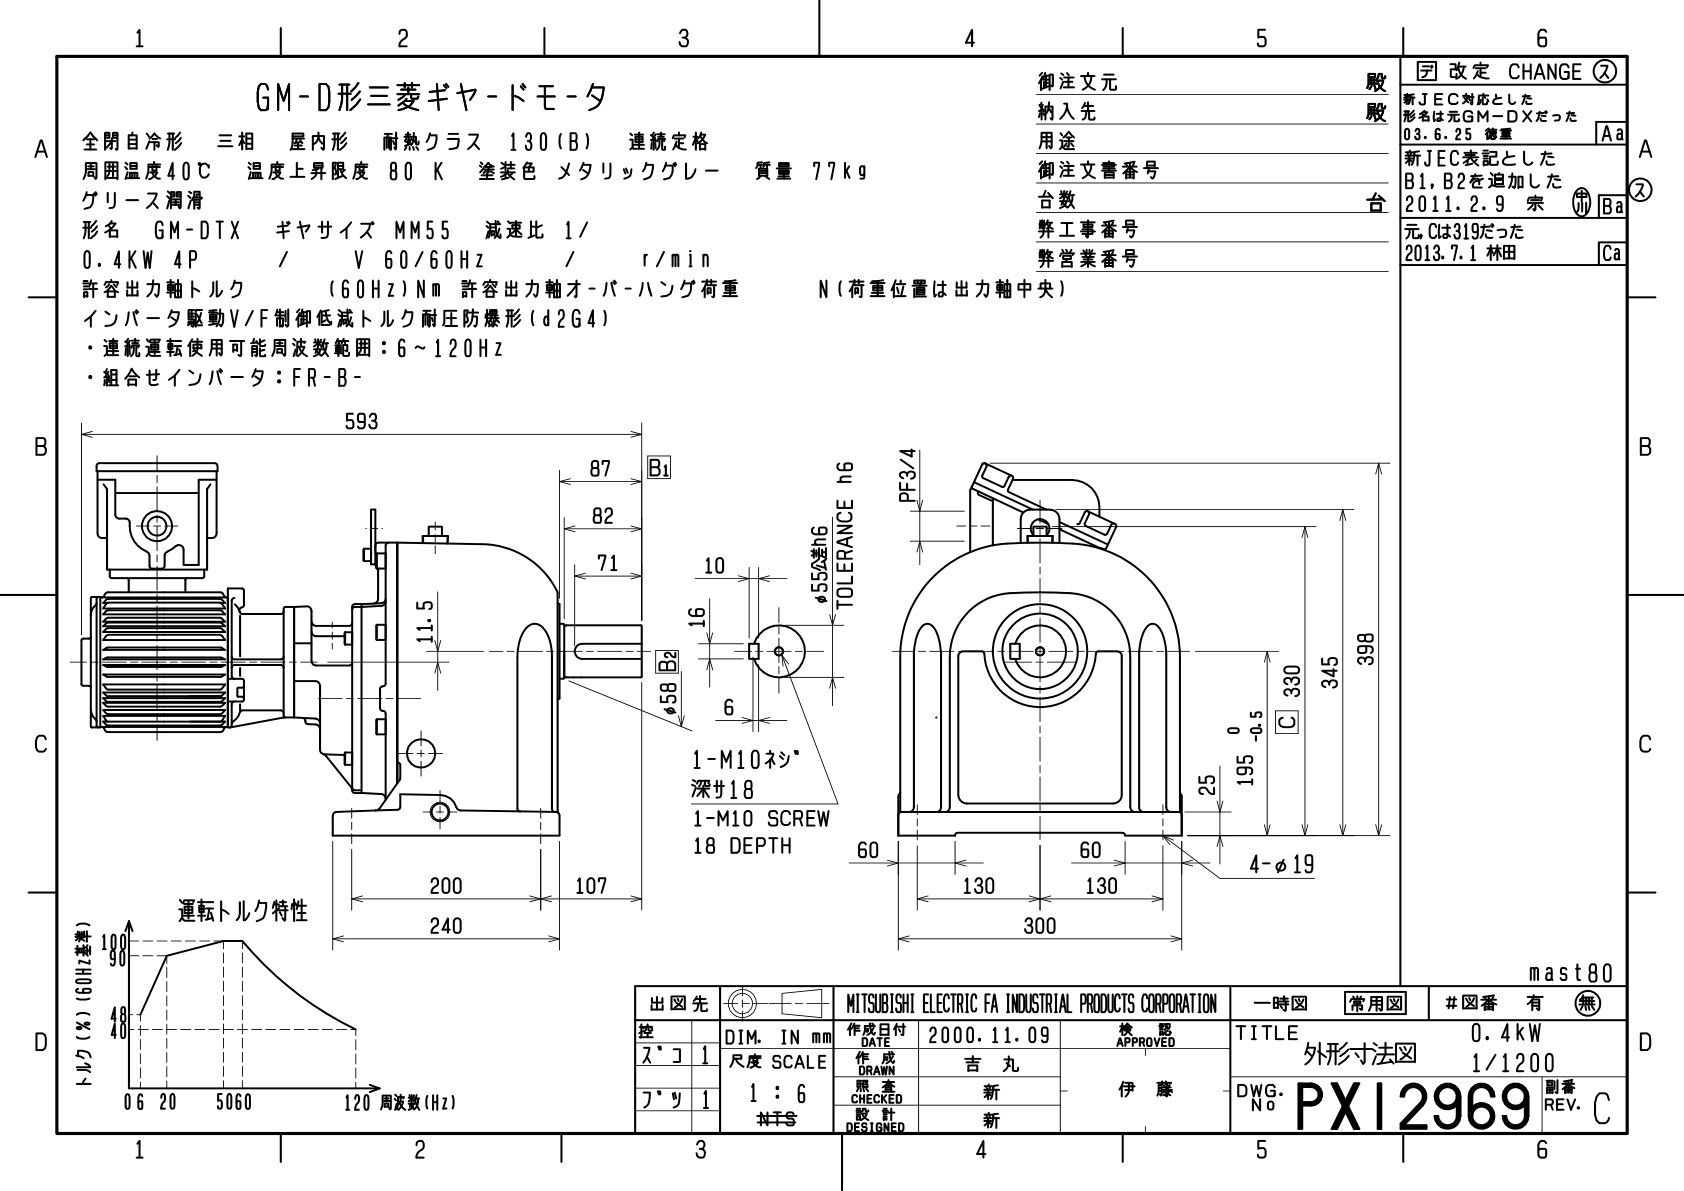GM_D_制御屋内_三相_脚: (1, 1, 1676, 1181)
